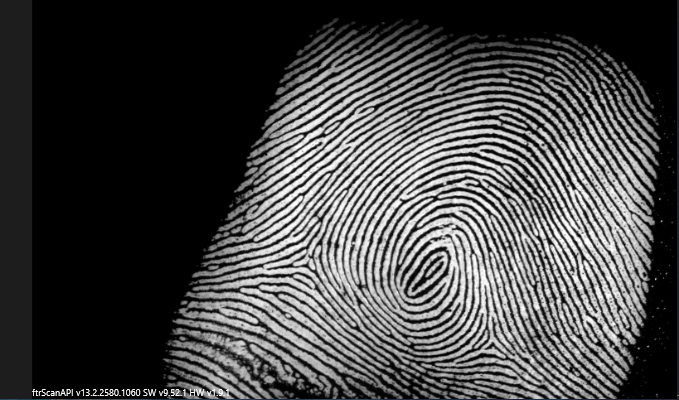nucelo: (408, 246, 443, 305)
verticilo: (468, 325, 511, 363), (285, 241, 321, 283)
